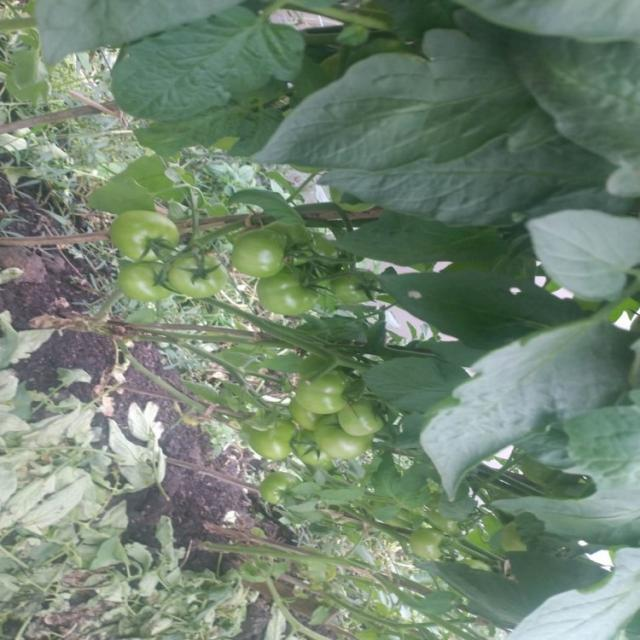tomato: (119, 259, 183, 326), (114, 208, 186, 266), (262, 276, 337, 328), (242, 415, 311, 467), (281, 423, 343, 480), (335, 392, 396, 445), (178, 247, 232, 302), (306, 364, 360, 418), (336, 268, 388, 320), (235, 227, 293, 273), (313, 411, 362, 459), (407, 522, 454, 565), (256, 464, 295, 508)
